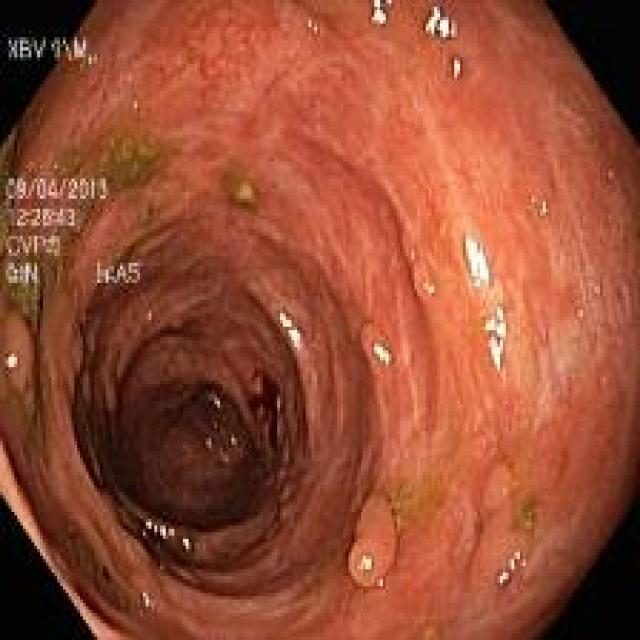Polyps: (349, 494, 398, 588), (484, 461, 512, 511), (359, 323, 392, 365), (412, 259, 435, 300)
